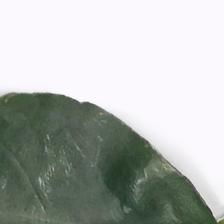healthy: (4, 90, 214, 224)
